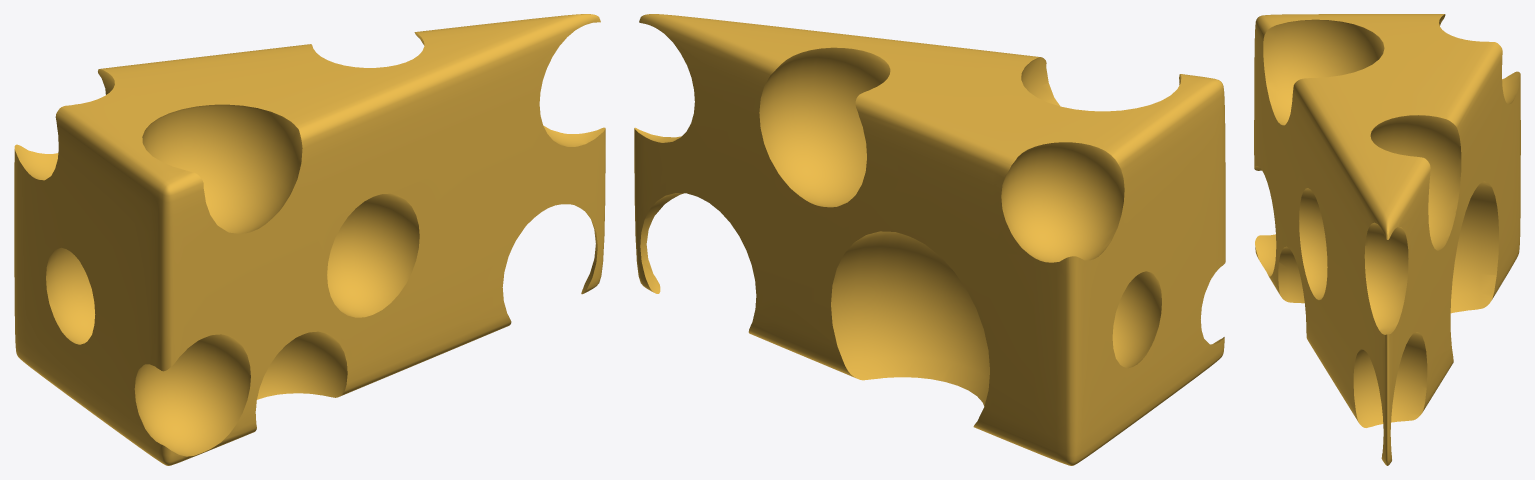
The model's file is cheese.fbx.
3 renders of one model, left to right at view 1: azimuth 30°, elevation 25°; view 2: azimuth 150°, elevation 25°; view 3: azimuth 270°, elevation 25°, orthographic. The views are drawn at different scales.
Visible parts, largest first — view 1: Cube; view 2: Cube; view 3: Cube.
Part boxes in pixels (left/top/right/bottom): Cube: left=14, top=14, right=605, bottom=465; Cube: left=634, top=14, right=1225, bottom=465; Cube: left=1254, top=14, right=1520, bottom=465.
Size of what is drawn, in the model's own units: 376 by 200 by 193.
